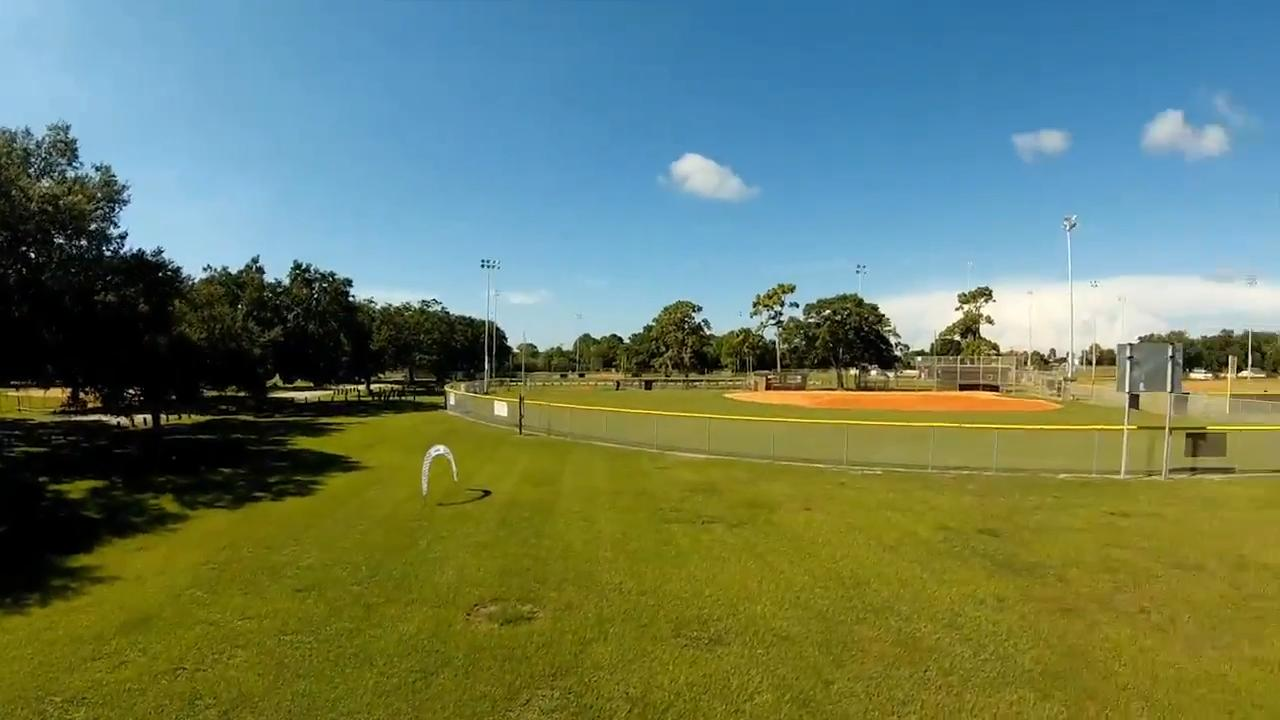gate: (417, 442, 460, 493)
